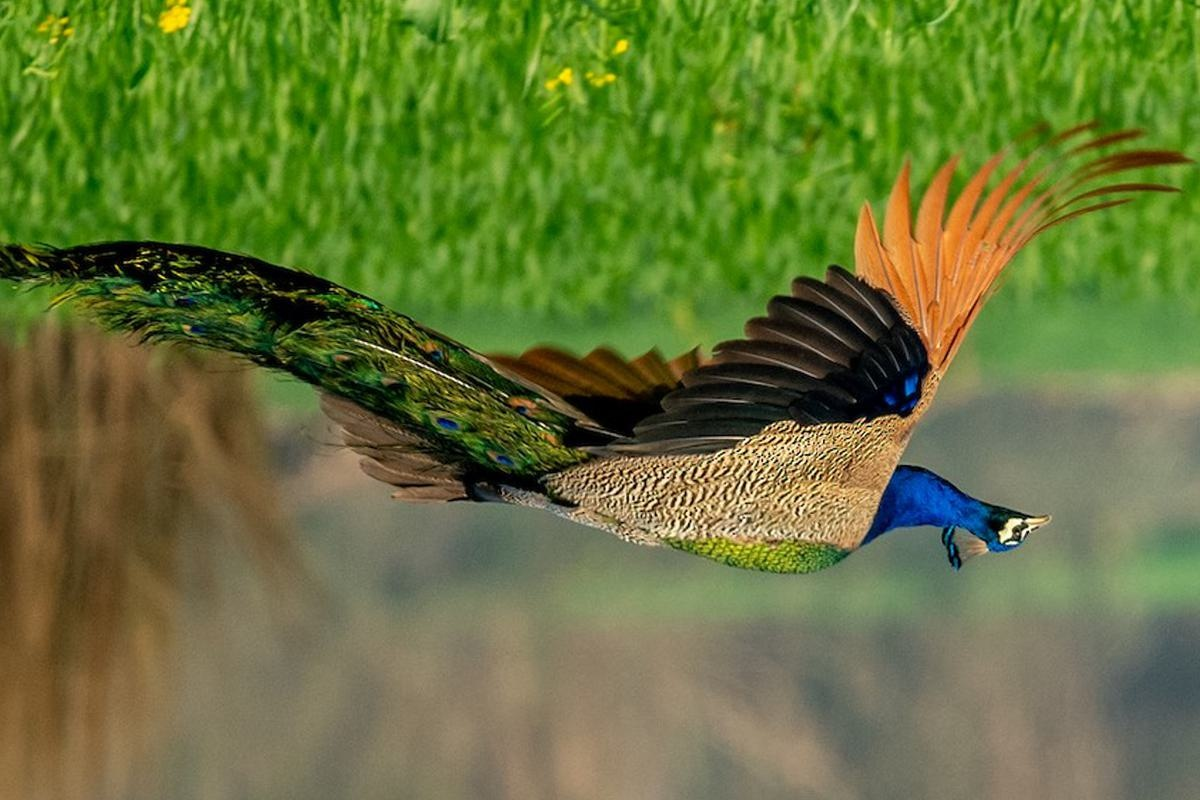peacock: (34, 184, 1161, 587)
